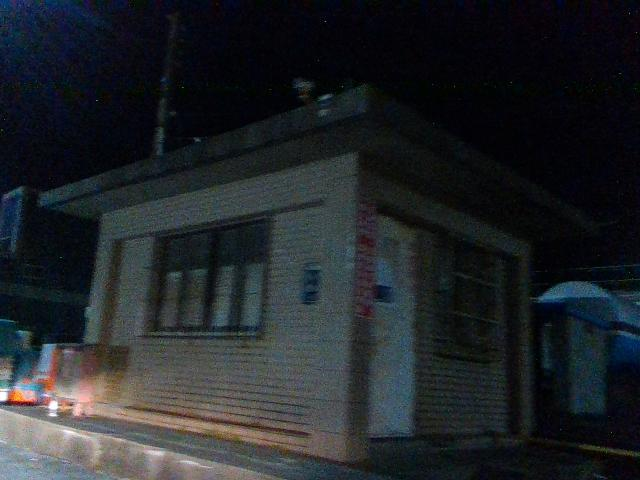pollute: (1, 312, 82, 411)
